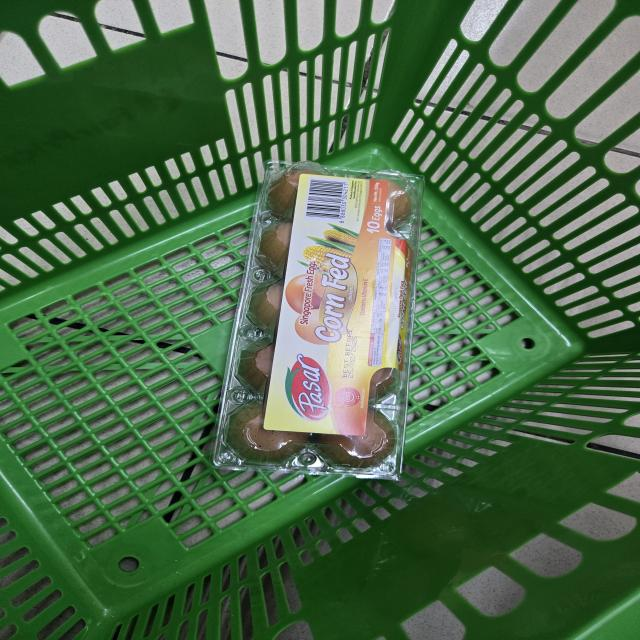eggs: (209, 158, 425, 484)
